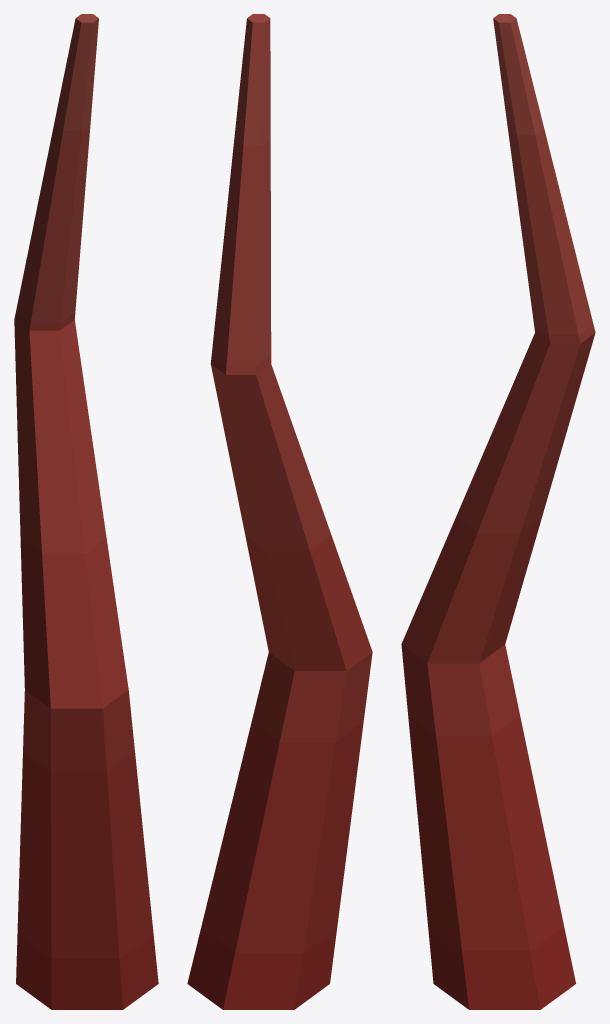
File: Tree3.glb
The picture shows the model from 3 angles, left to right: view 1: azimuth 30°, elevation 25°; view 2: azimuth 150°, elevation 25°; view 3: azimuth 270°, elevation 25°; orthographic projection.
Parts seen in each view (by area): view 1: Cylinder; view 2: Cylinder; view 3: Cylinder.
Part boxes in pixels (<box>): Cylinder: <box>14,14,158,1009</box>; Cylinder: <box>187,14,372,1009</box>; Cylinder: <box>401,14,595,1009</box>.
Bounding box in the file's own units: 1.67 × 12 × 2.19.
Materials: 1 (1 with a texture image).
